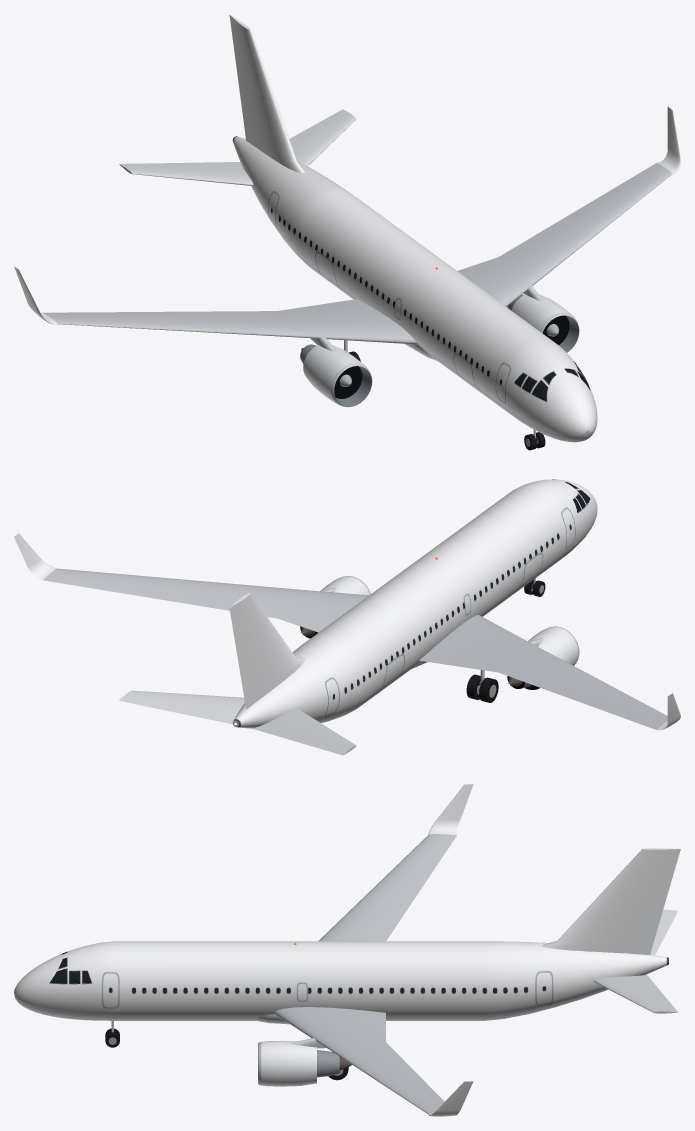
3 views of the same model, one above another, from view 1: azimuth 30°, elevation 25°; view 2: azimuth 150°, elevation 25°; view 3: azimuth 270°, elevation 25° (orthographic). The views are drawn at different scales.
Parts seen in each view (by area): view 1: body; view 2: body, gear; view 3: body.
Part boxes in pixels (x1,y1,x2,y2): body: (14,14,680,442); body: (14,479,680,755); gear: (466,578,545,702); body: (14,784,680,1116).
Size of the model in its own units: 36.33 by 11.16 by 34.46.
Materials: 19 (1 with a texture image).
